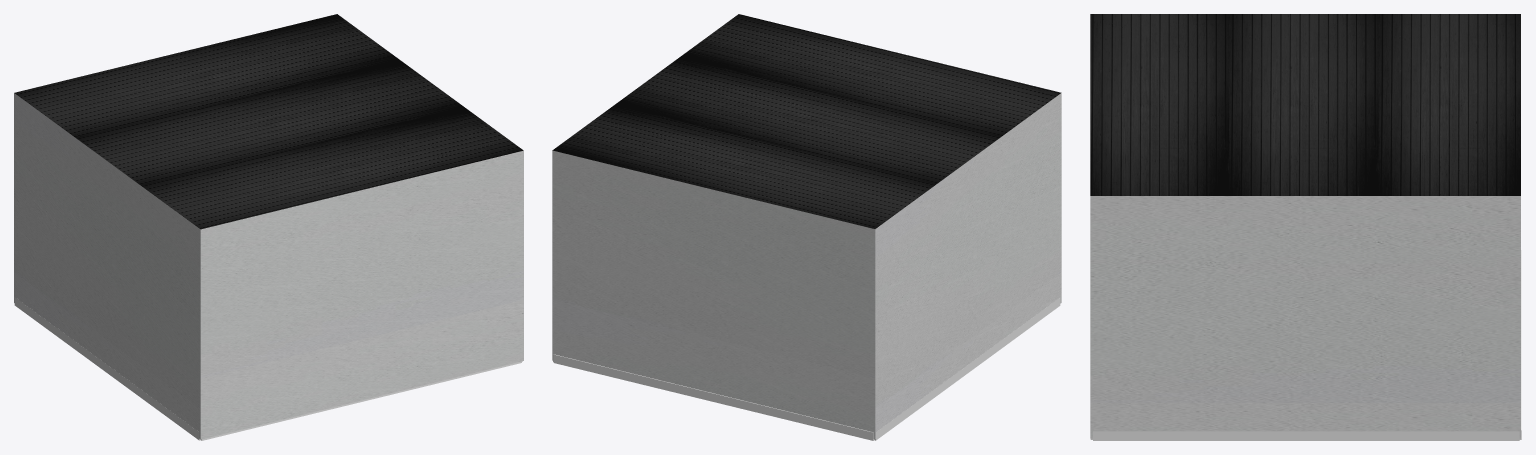
3 views of the same model, side by side, from view 1: azimuth 30°, elevation 25°; view 2: azimuth 150°, elevation 25°; view 3: azimuth 270°, elevation 25° (orthographic). The views are drawn at different scales.
Visible parts, largest first — view 1: Cube.001; view 2: Cube.001; view 3: Cube.001.
Part boxes in pixels (box(x1,y1,x2,y2)): Cube.001: box(14, 14, 523, 440); Cube.001: box(552, 14, 1061, 440); Cube.001: box(1090, 14, 1521, 440).
Size of the model in its own units: 19.51 by 12.25 by 19.53.
54 materials, 20 textured.
